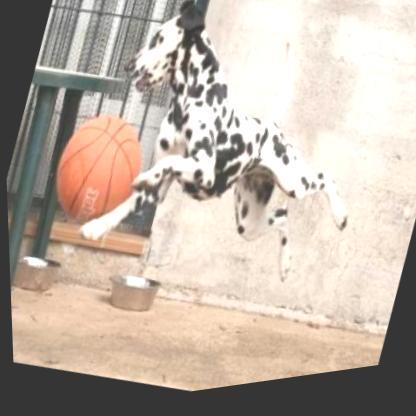basketball: (34, 96, 158, 245)
